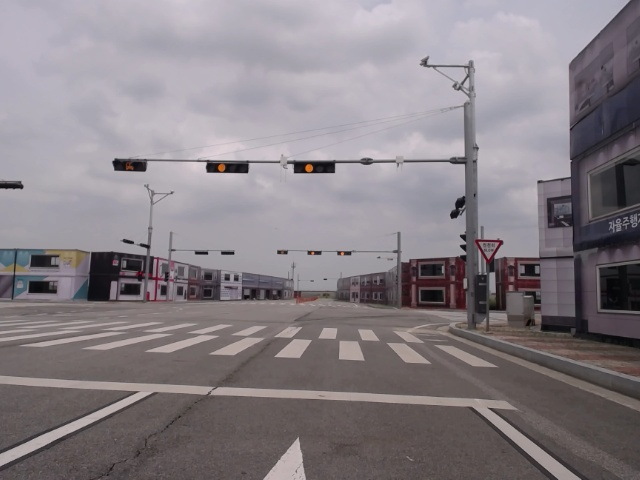orange_4: (295, 160, 334, 173), (207, 161, 248, 173), (307, 250, 323, 256), (337, 250, 353, 256)
